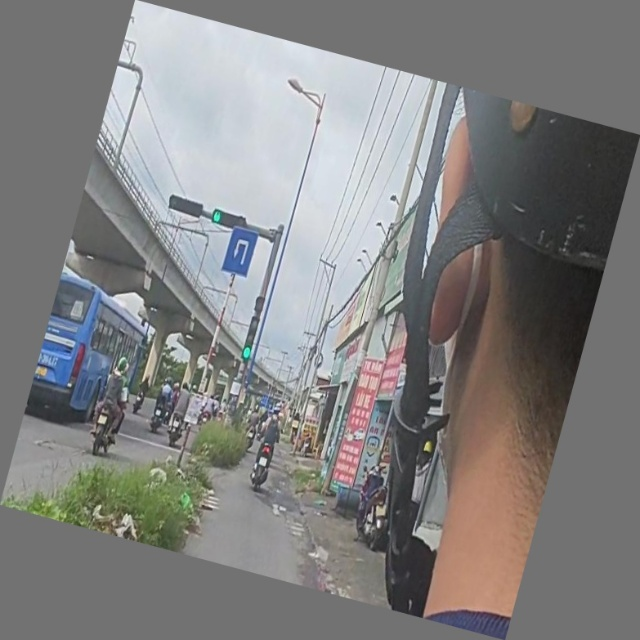I.409: (220, 222, 263, 279)
